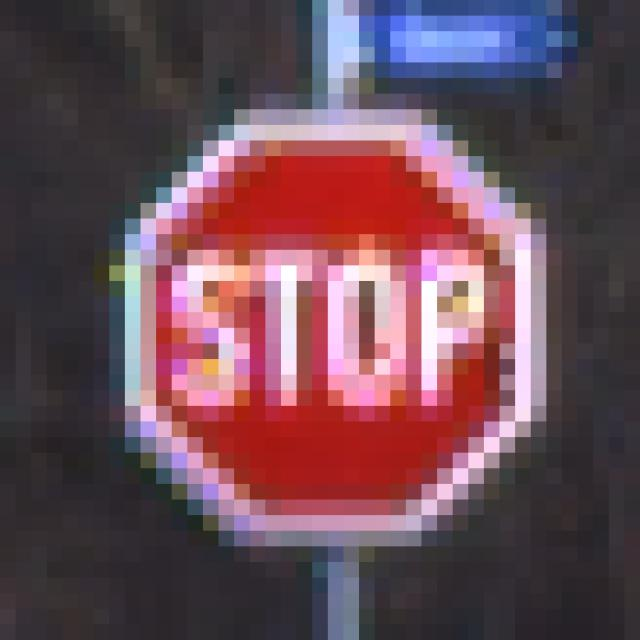STOP: (95, 79, 563, 563)
